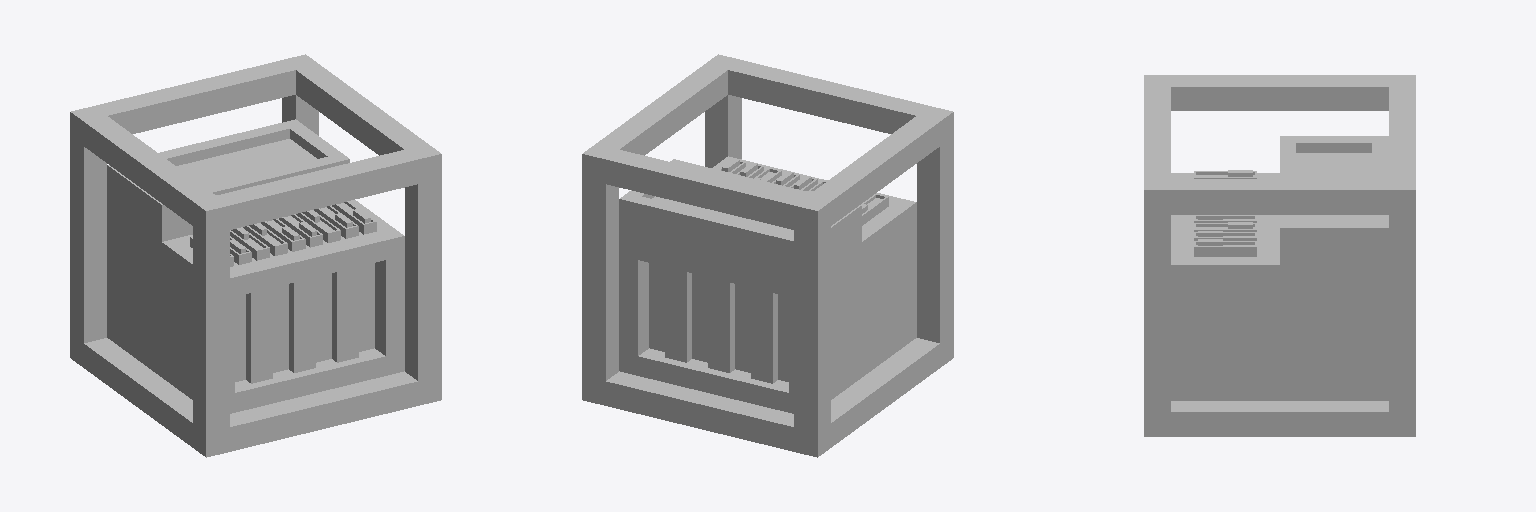
File: Register.obj
3 views of the same model, side by side, from view 1: azimuth 30°, elevation 25°; view 2: azimuth 150°, elevation 25°; view 3: azimuth 270°, elevation 25° (orthographic).
Visible parts, largest first — view 1: FrameCube; view 2: FrameCube; view 3: FrameCube.
Boxes of the visible parts, box(x1,y1,x2,y2) form: FrameCube: box(70, 54, 441, 457); FrameCube: box(582, 54, 953, 457); FrameCube: box(1144, 75, 1415, 436).
Size of the model in its own units: 1 by 1 by 1.